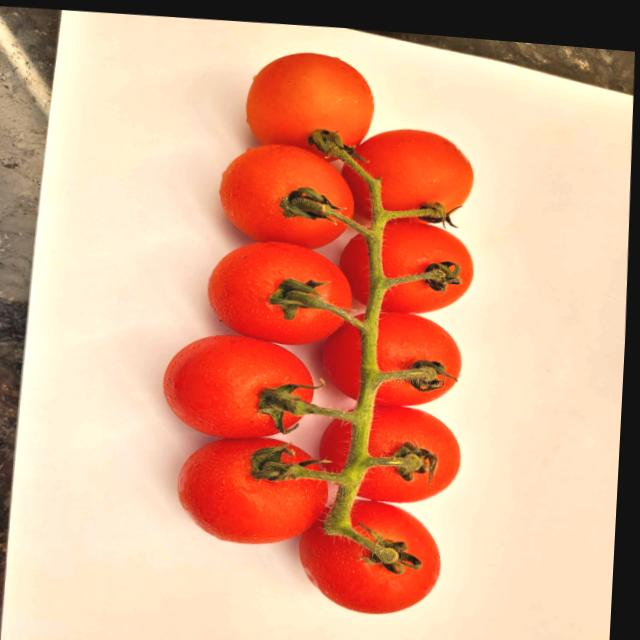ripe2: (299, 499, 440, 613), (178, 438, 328, 543), (163, 335, 312, 438), (208, 242, 351, 344), (219, 144, 353, 248), (246, 53, 373, 153), (357, 405, 459, 502), (356, 129, 473, 212), (381, 217, 472, 313), (377, 309, 460, 379), (322, 323, 360, 398), (375, 375, 454, 406), (339, 235, 368, 304), (319, 419, 350, 471), (342, 166, 368, 216)
